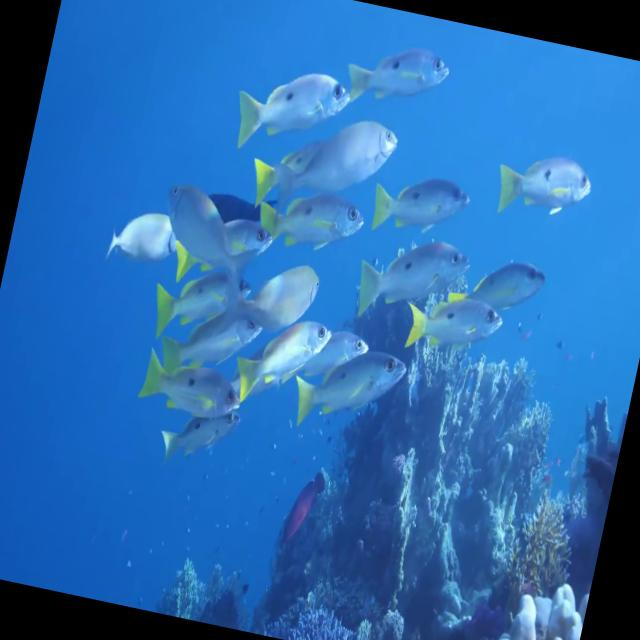fish: (257, 96, 403, 228), (284, 332, 414, 454), (144, 169, 249, 298), (230, 56, 358, 158), (141, 258, 260, 364), (354, 228, 474, 329), (235, 300, 338, 416), (363, 154, 479, 250), (130, 343, 251, 429), (401, 274, 507, 369), (494, 139, 601, 228), (449, 248, 551, 340), (345, 34, 456, 118), (106, 200, 204, 272), (248, 254, 328, 326)
